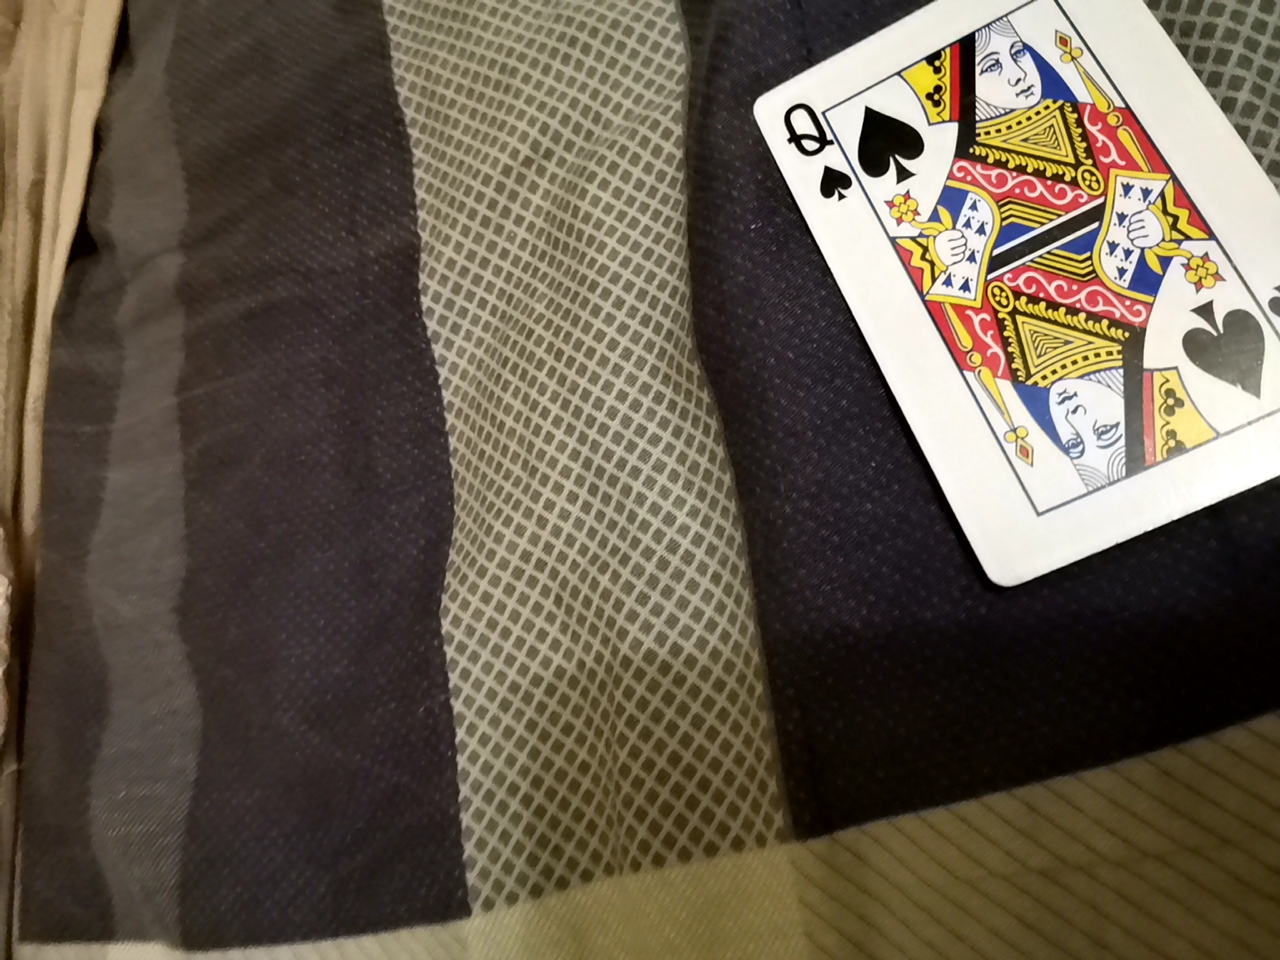ht q: (733, 2, 1273, 589)
